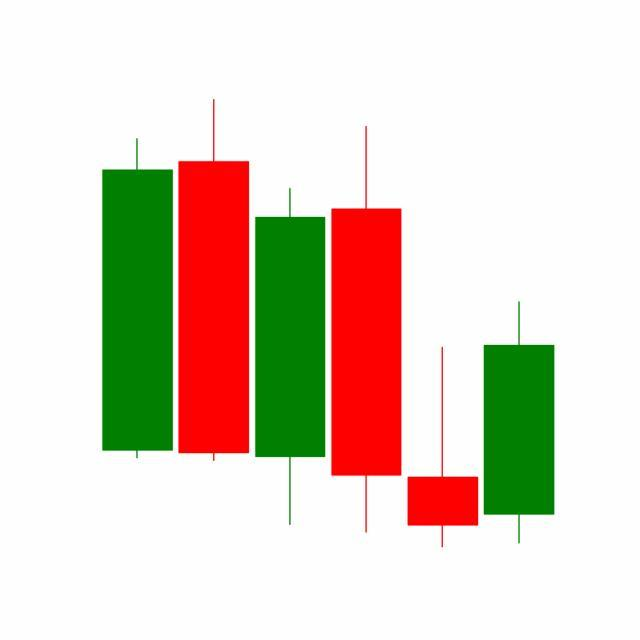Morning Star: (326, 122, 555, 549)
